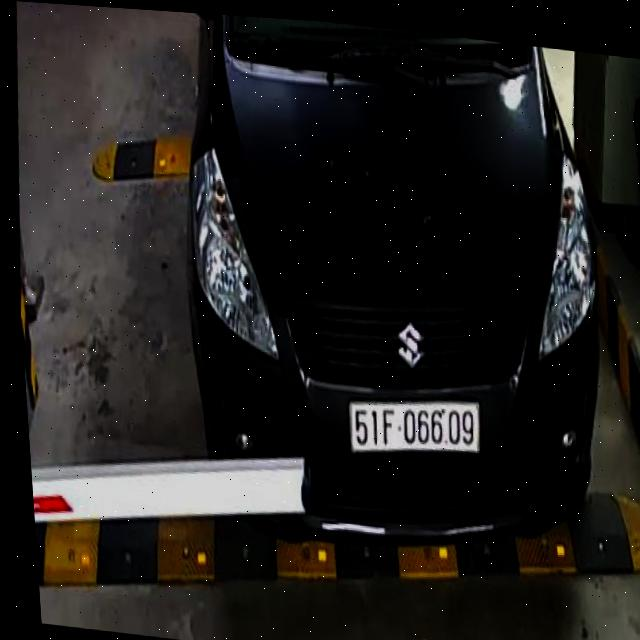car: (137, 9, 640, 575)
plate: (343, 394, 490, 473)
